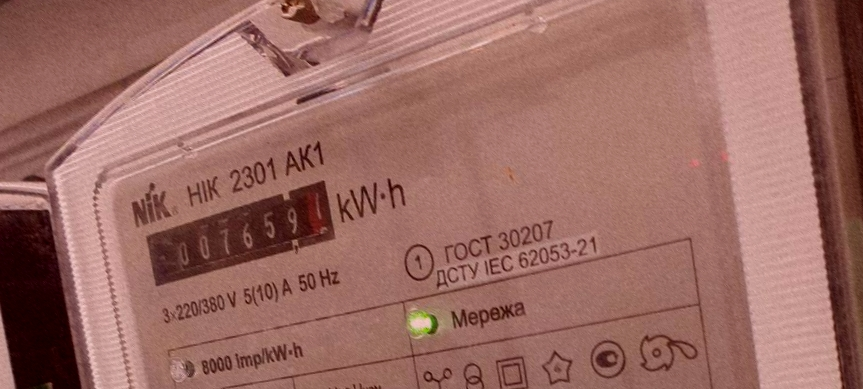0: (174, 236, 191, 265), (195, 231, 211, 259)
1: (309, 189, 324, 221)
5: (259, 207, 278, 241)
6: (238, 217, 255, 250)
7: (215, 222, 233, 256)
9: (282, 201, 301, 237)
screen: (126, 170, 357, 292)
